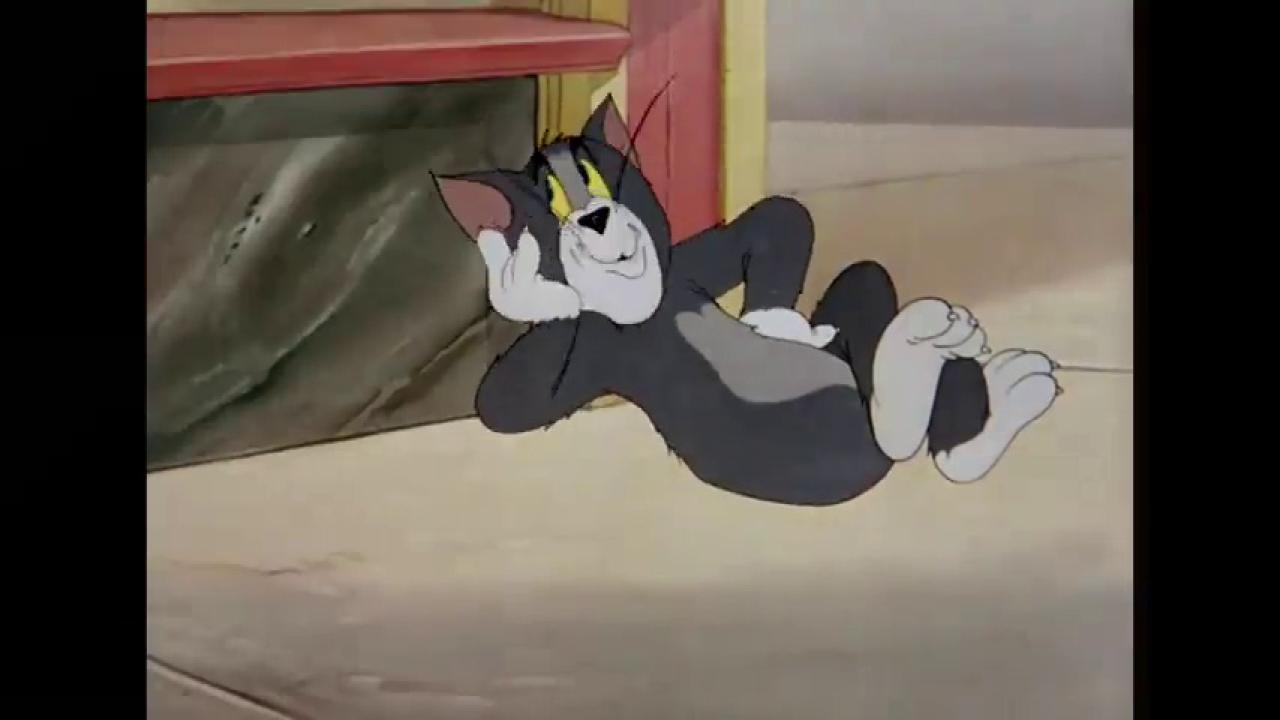Tom: (428, 90, 1065, 508)
